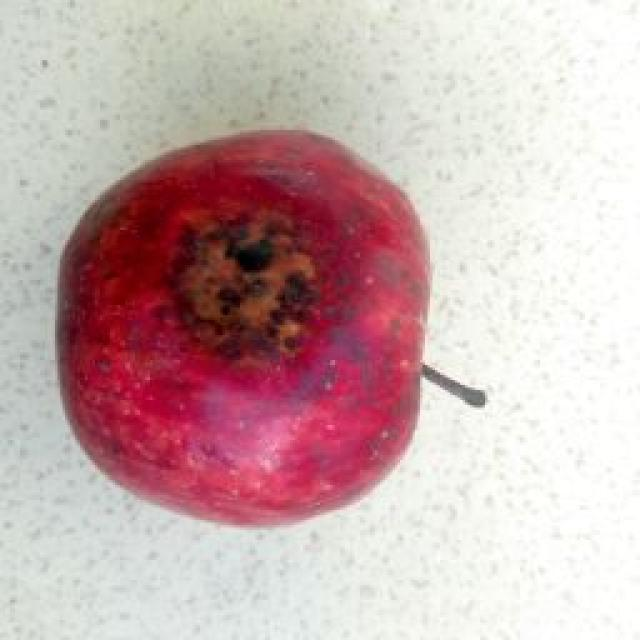Bad_Apple: (59, 130, 430, 524)
